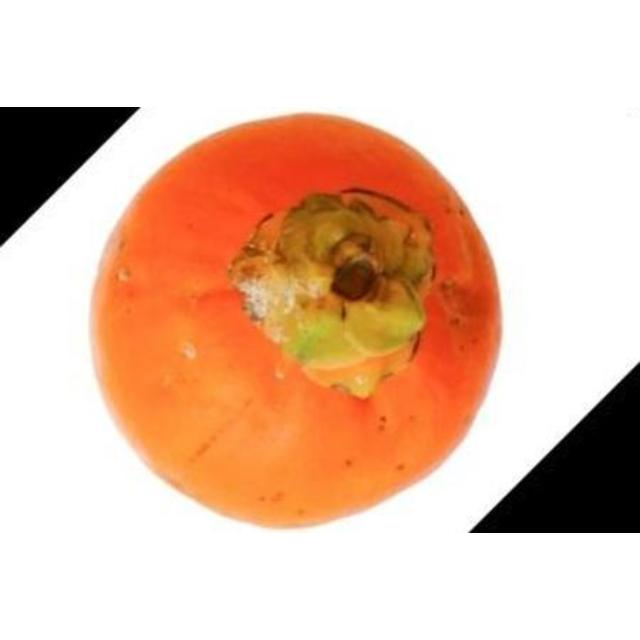good: (85, 113, 506, 532), (122, 150, 496, 527)
